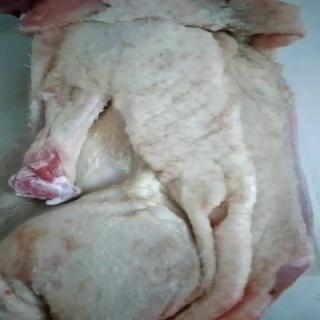Ayam: (1, 1, 314, 320)
